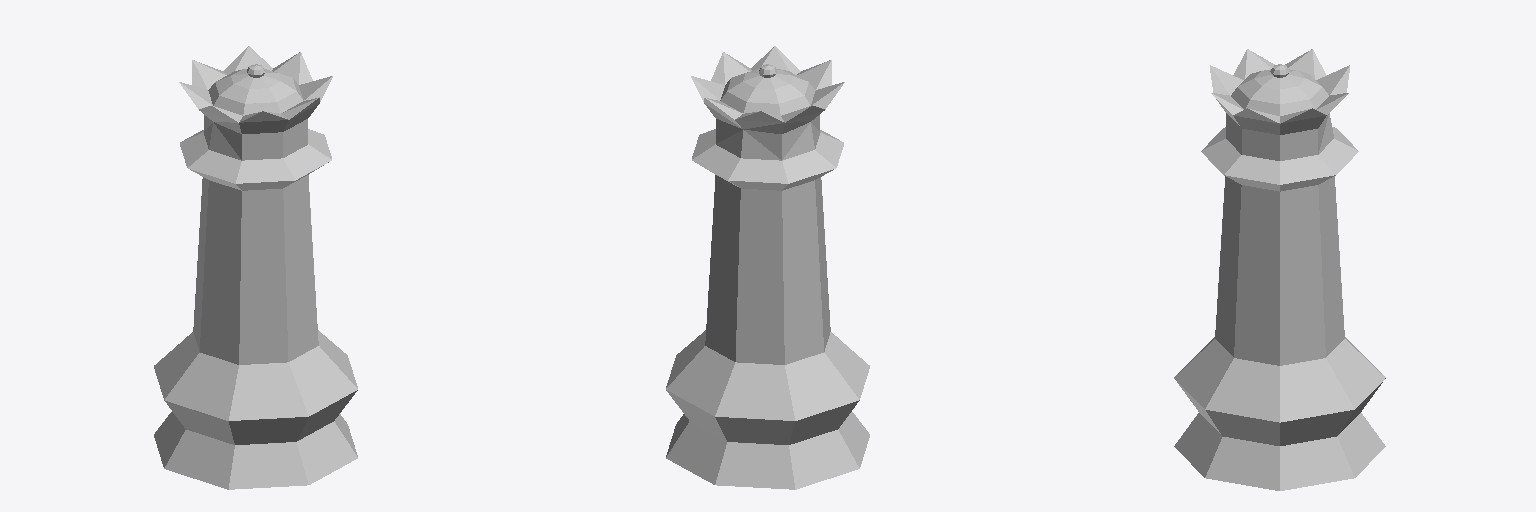
Rendered from queen.obj.
3 renders of one model, left to right at view 1: azimuth 30°, elevation 25°; view 2: azimuth 150°, elevation 25°; view 3: azimuth 270°, elevation 25°, orthographic.
Visible parts, largest first — view 1: Circle.004; view 2: Circle.004; view 3: Circle.004.
Part boxes in pixels (bbox=[...]): Circle.004: bbox=[154, 46, 357, 489]; Circle.004: bbox=[666, 46, 869, 489]; Circle.004: bbox=[1174, 49, 1385, 490].
Bounding box in the file's own units: 0.14 × 0.2775 × 0.14.